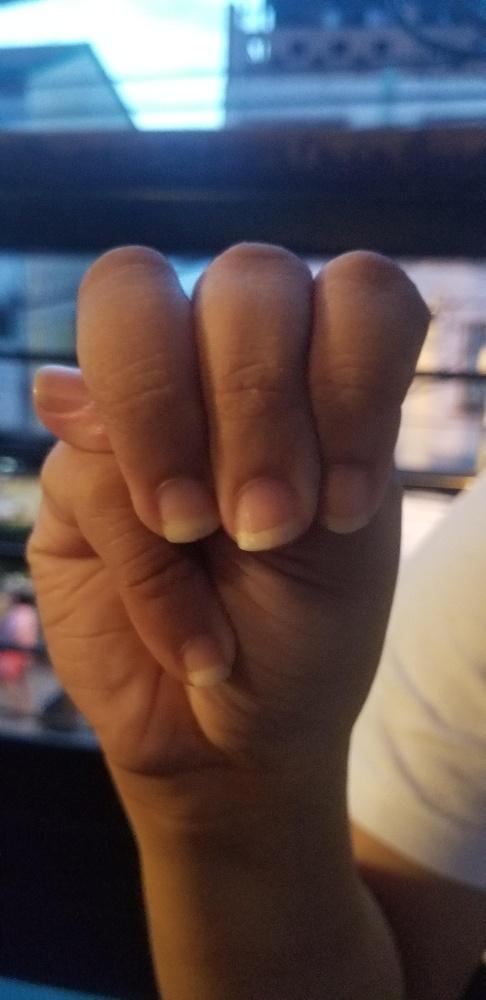m: (26, 238, 434, 775)
